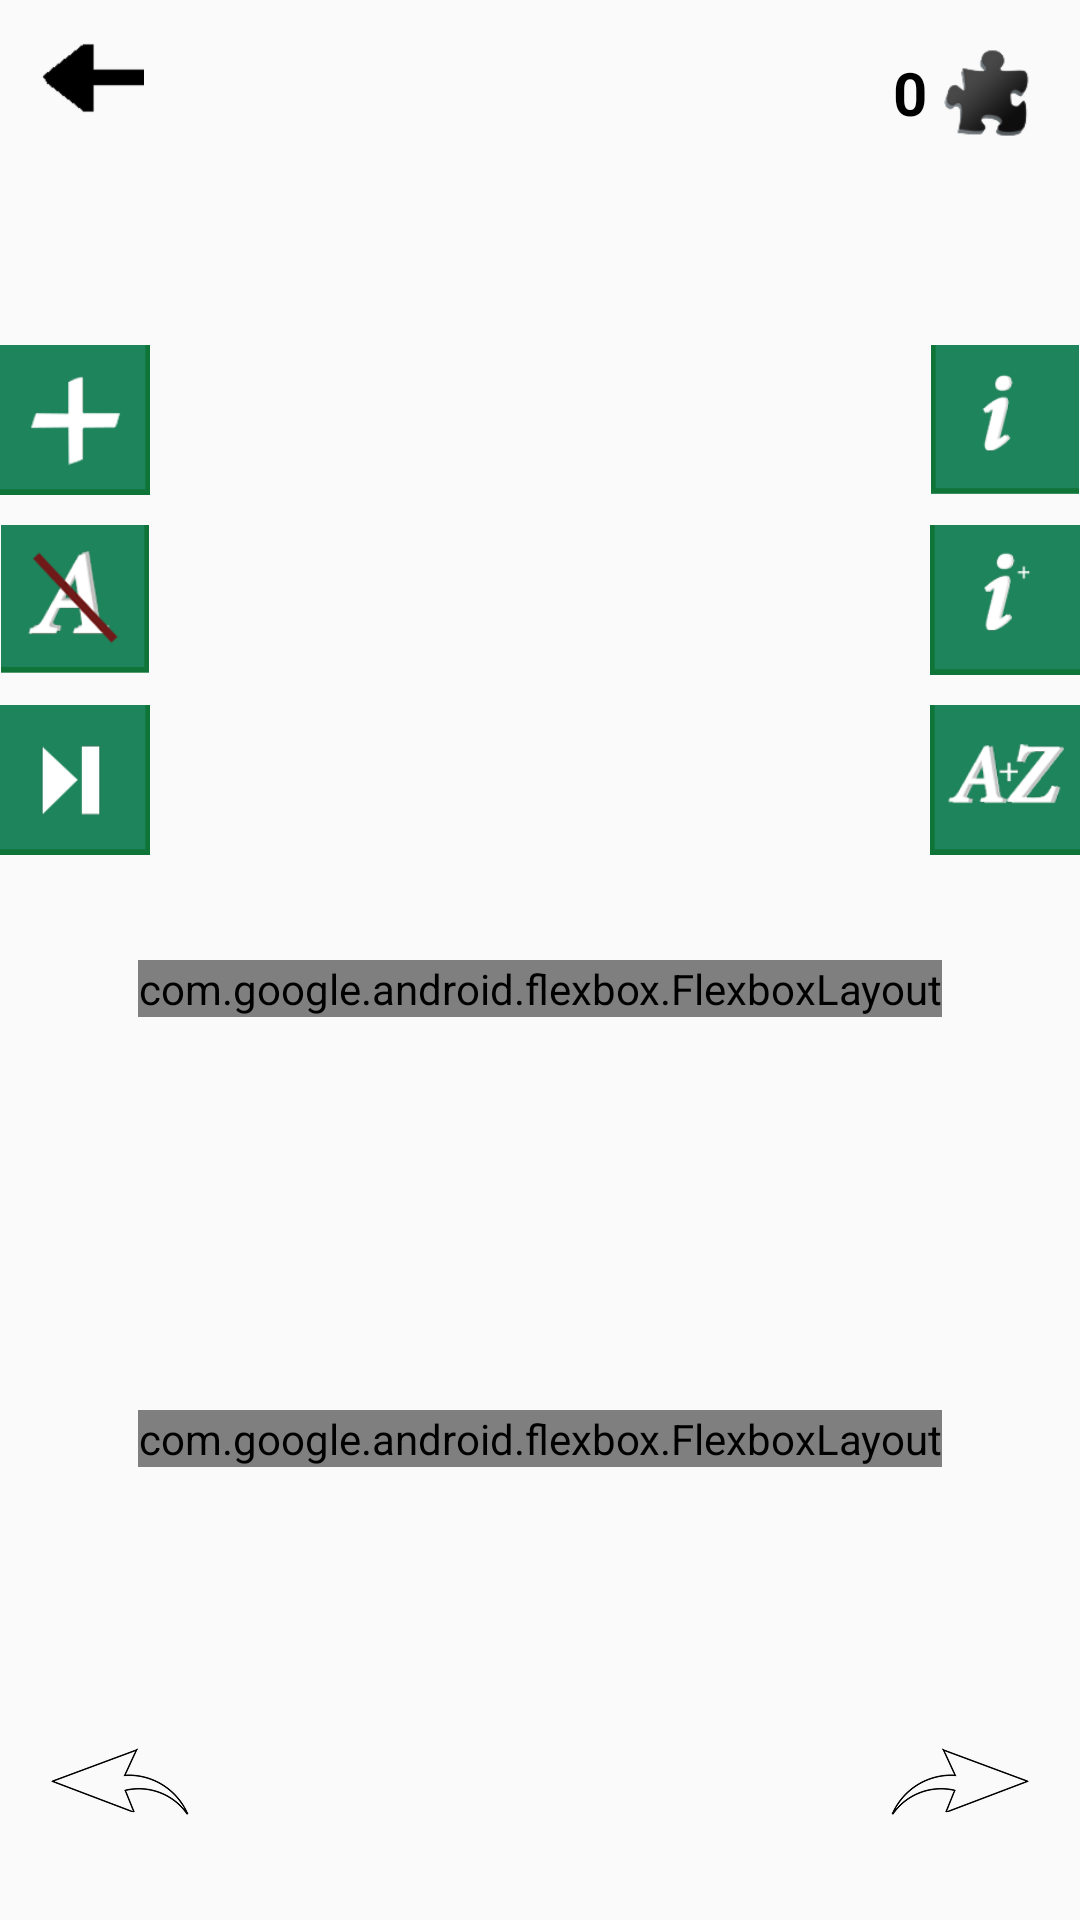

Icons on this 1080 × 1920 Android screen, each with the point to tap as [x,y]:
Następny: [960,1781]
plus: [75,420]
Poprzedni: [120,1781]
Powrót: [93,78]
skip: [75,780]
usun litere: [75,599]
wiki: [1005,419]
